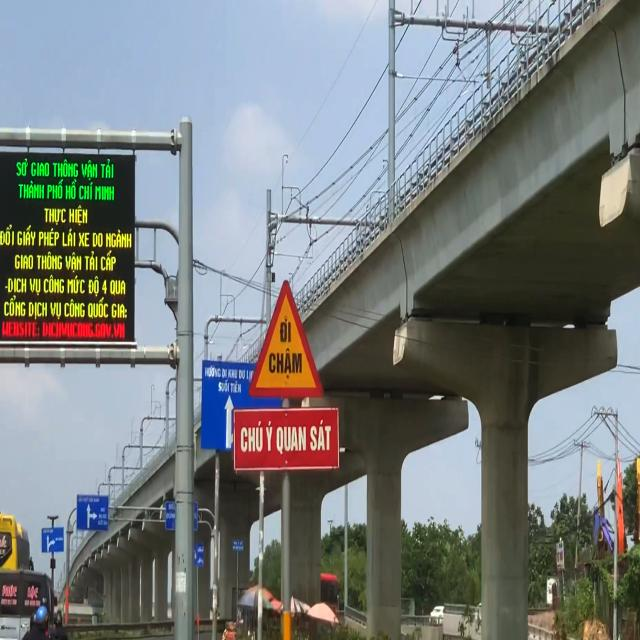Nguy hiem: (246, 273, 328, 401)
